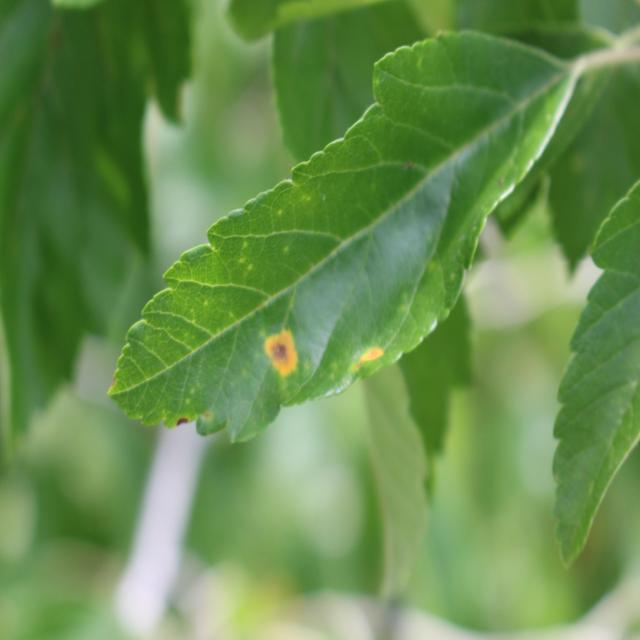Rust: (253, 326, 309, 385), (349, 338, 389, 384)
